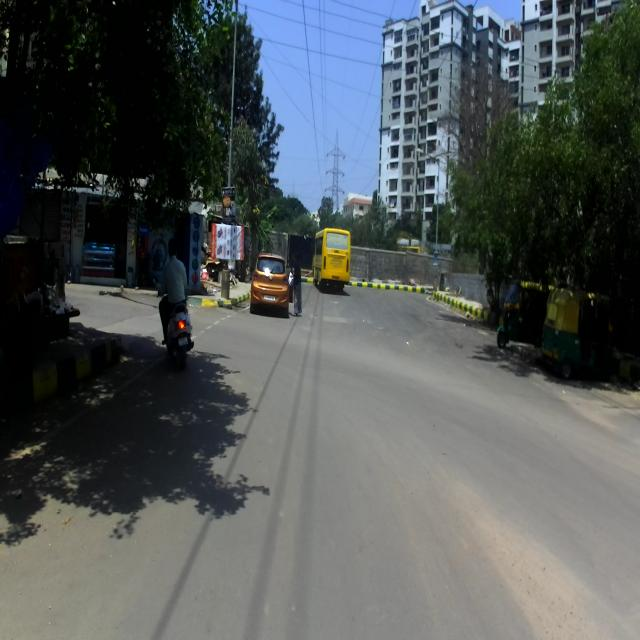motorcycle ahead at: (248, 246, 291, 323)
